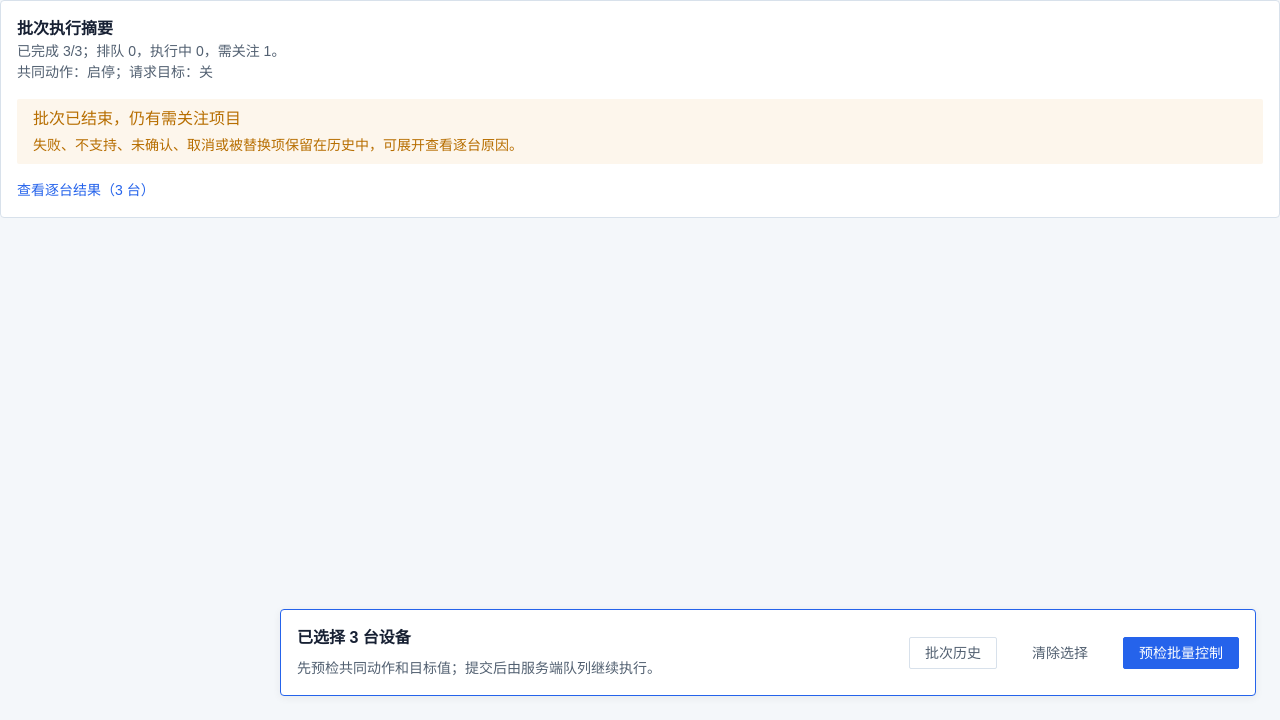
Test: HvacBatchControlPanel › 默认只显示批次摘要；展开后优先显示关注项并可单独显示成功项
Click the button with test id "batch-detail-toggle": (86, 190) [17,180,155,201]
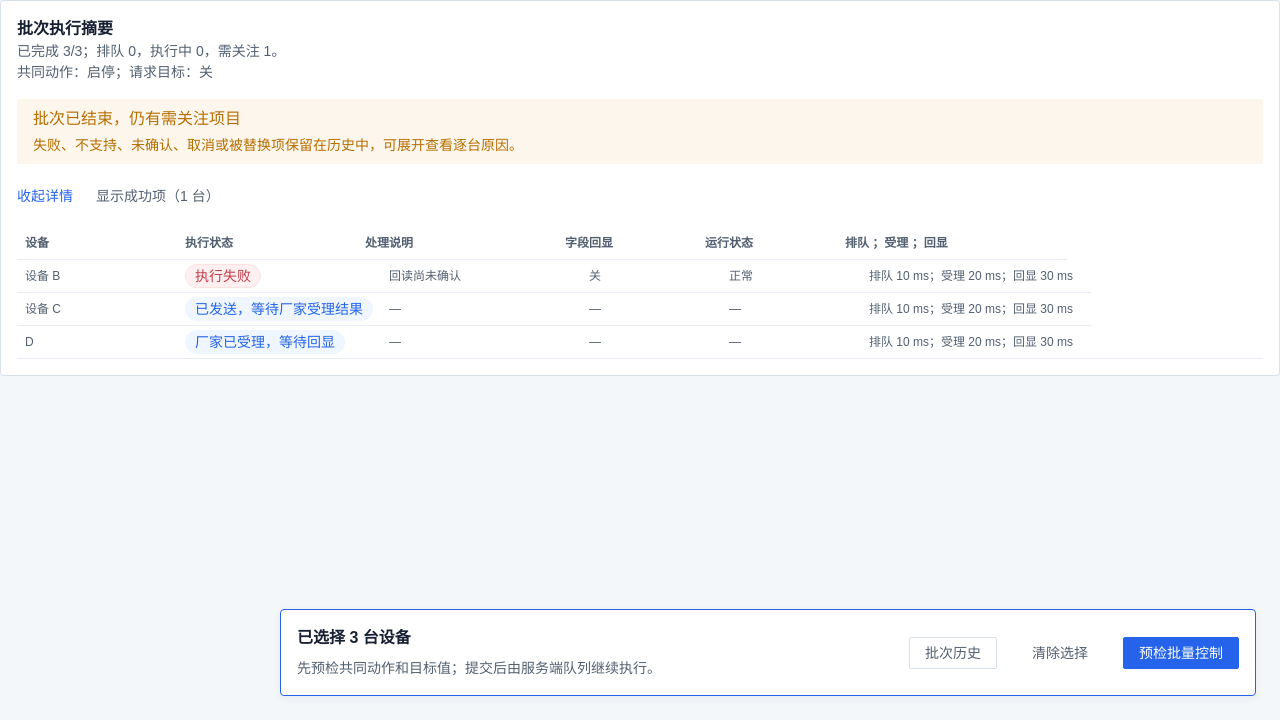
Expected: the element with test id "batch-item-table" shows "执行失败", [195,268,251,284]
Expected: the element with test id "batch-item-table" shows "已发送，等待厂家受理结果", [195,301,363,317]
Expected: the element with test id "batch-item-table" shows "厂家已受理，等待回显", [195,334,335,350]
Click the button "显示成功项（1 台）": (158, 196) [81,180,235,212]
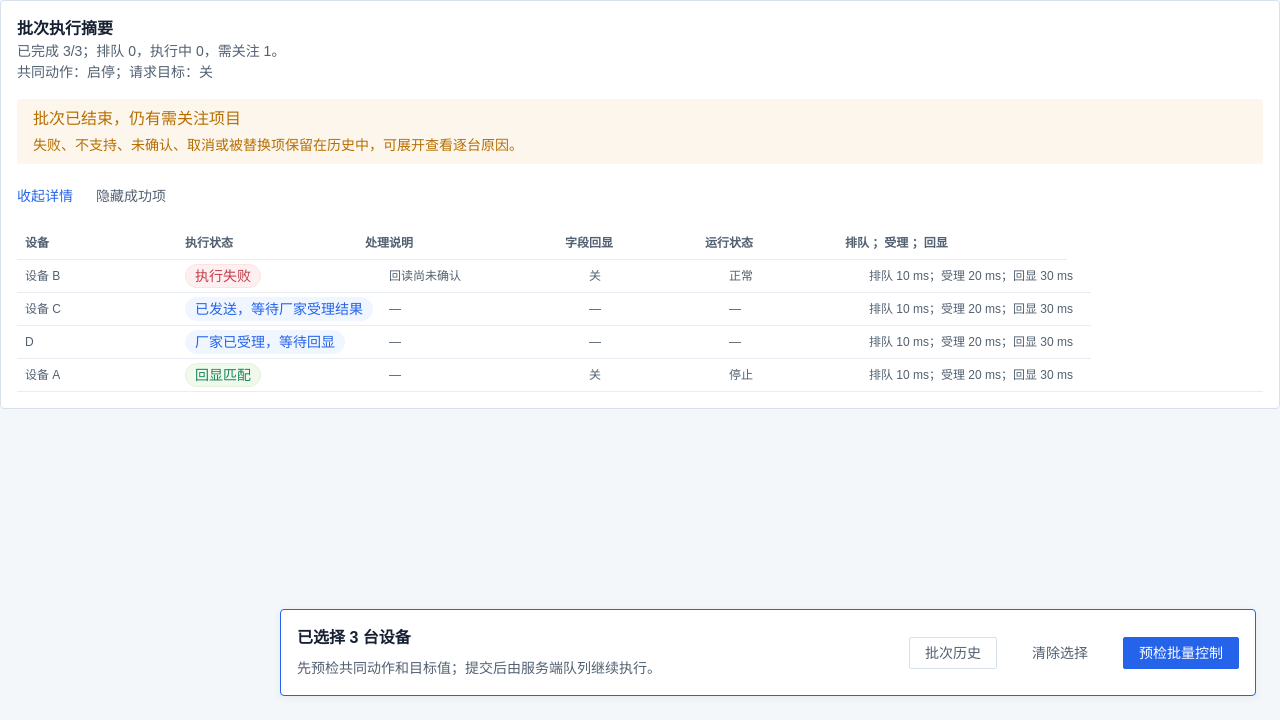
Expected: the element with test id "batch-item-table" shows "回显匹配", [195,367,251,383]
